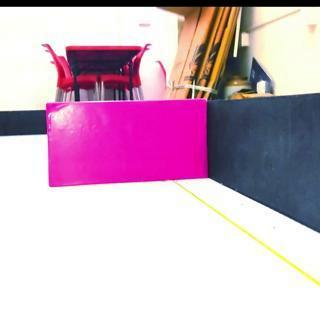xparking: (51, 105, 208, 188)
